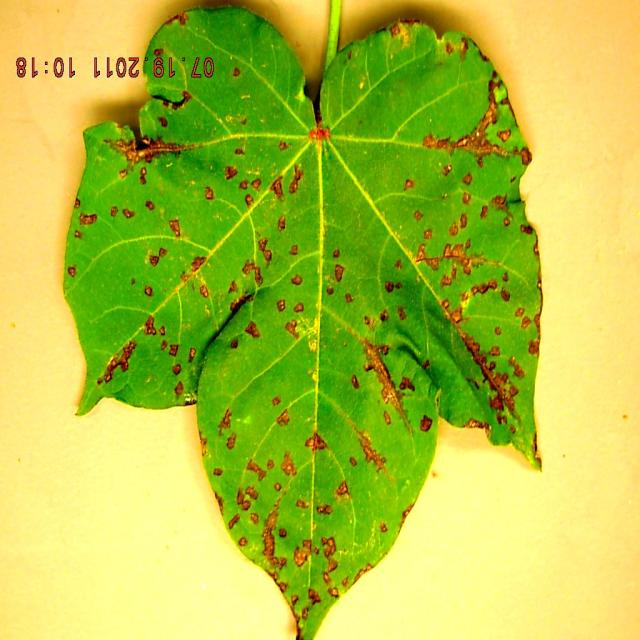Bacterial Blight: (145, 174, 491, 455)
